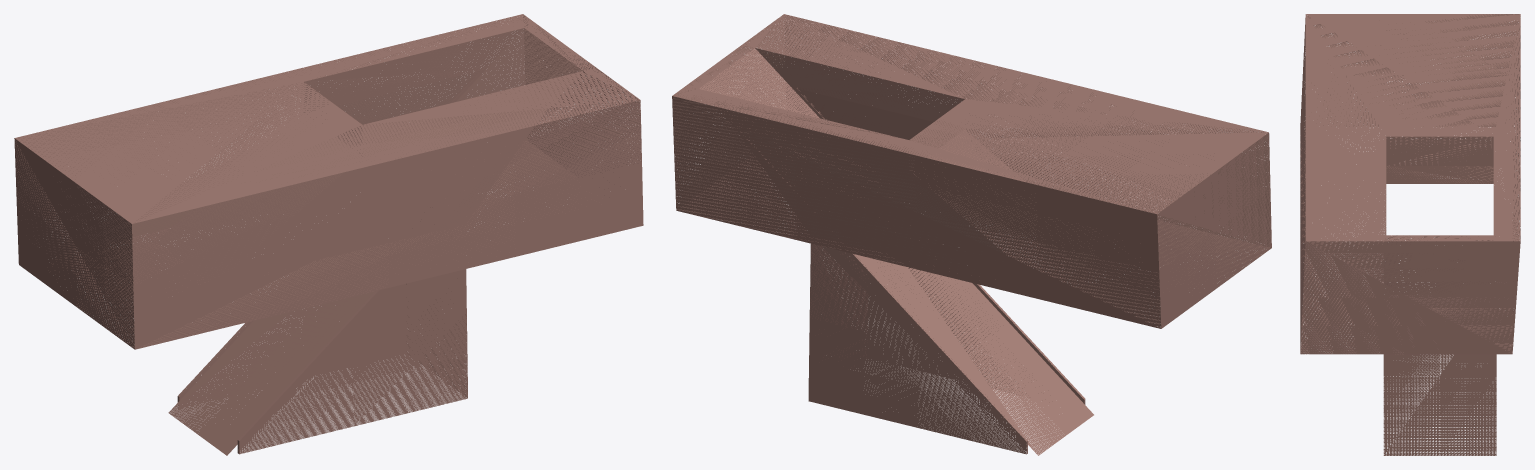
The model's file is SW_ENV_EL_StationBaseStairTop_Collision.fbx.
3 views of the same model, side by side, from view 1: azimuth 30°, elevation 25°; view 2: azimuth 150°, elevation 25°; view 3: azimuth 270°, elevation 25° (orthographic). The views are drawn at different scales.
Visible parts, largest first — view 1: SW_ENV_EL_StationBaseStairTop_Collision; view 2: SW_ENV_EL_StationBaseStairTop_Collision; view 3: SW_ENV_EL_StationBaseStairTop_Collision.
Boxes of the visible parts, box(x1,y1,x2,y2) form: SW_ENV_EL_StationBaseStairTop_Collision: box(14, 14, 643, 455); SW_ENV_EL_StationBaseStairTop_Collision: box(672, 14, 1271, 455); SW_ENV_EL_StationBaseStairTop_Collision: box(1300, 14, 1520, 455).
Bounding box in the file's own units: 1000 × 560 × 410.
